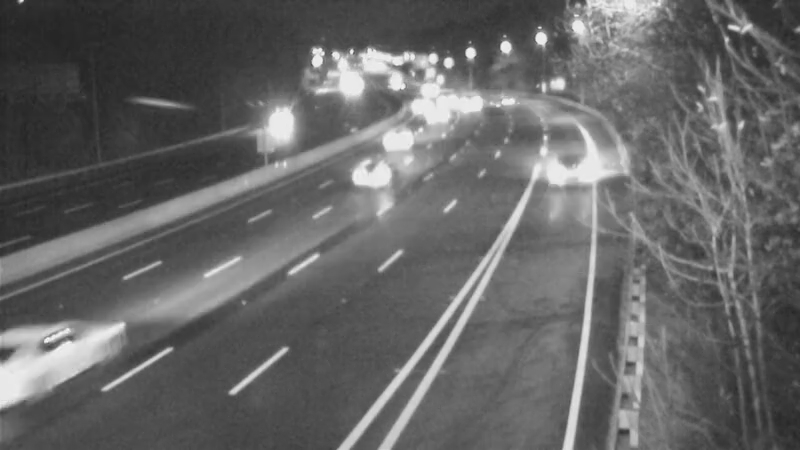vehicle: (1, 320, 99, 430), (527, 136, 607, 216), (337, 129, 417, 209), (405, 60, 455, 110), (417, 75, 467, 125), (447, 79, 497, 129), (385, 78, 435, 128), (481, 75, 531, 125), (409, 91, 459, 141), (351, 123, 401, 173), (251, 105, 301, 155)
